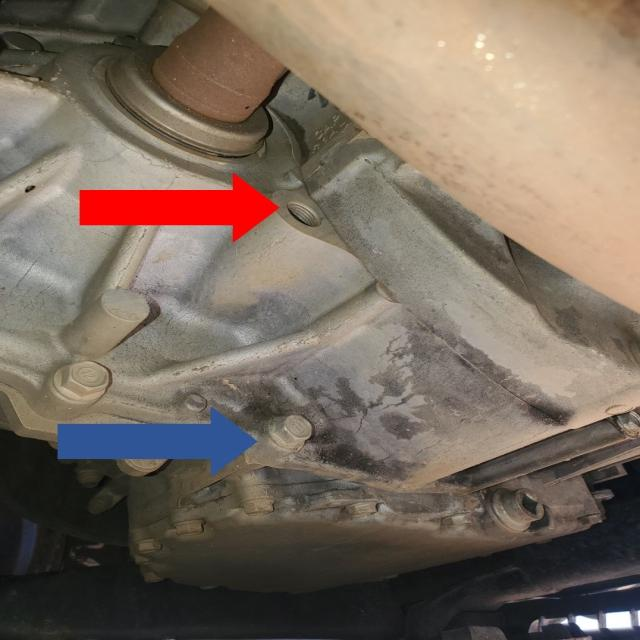Missing bolt: (284, 198, 327, 234)
Regular bolt: (52, 361, 112, 404), (495, 488, 547, 533), (267, 413, 316, 454), (618, 412, 640, 439), (243, 500, 278, 516), (348, 502, 380, 518), (176, 521, 204, 537), (135, 540, 164, 554), (447, 513, 476, 527), (581, 514, 606, 526)
